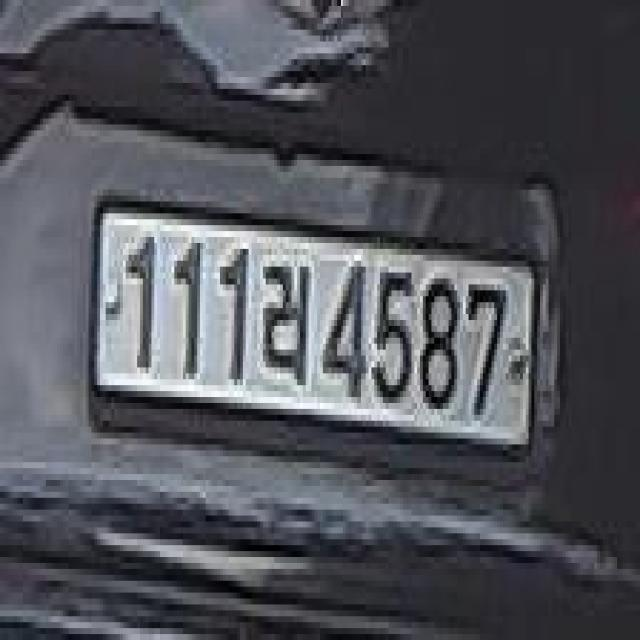illegal_plate: (84, 182, 540, 496)
